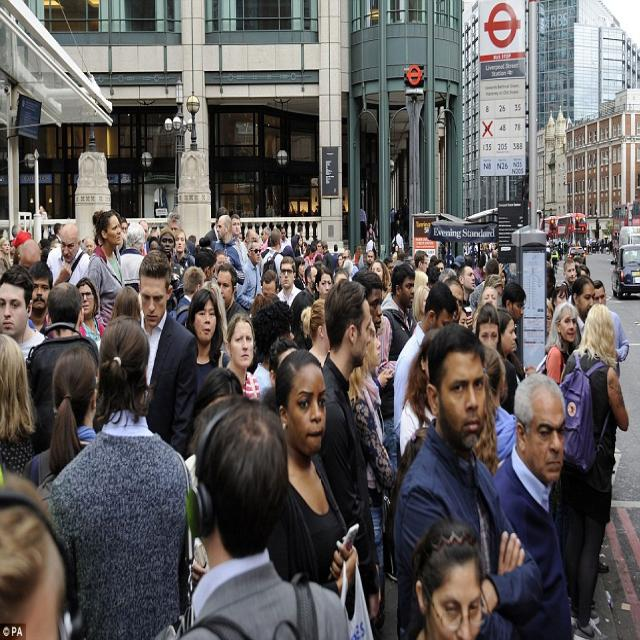body: (0, 195, 639, 638), (132, 385, 373, 639), (42, 310, 199, 639), (390, 318, 547, 639), (267, 345, 376, 640), (552, 298, 632, 639), (316, 276, 384, 628), (490, 370, 575, 640), (129, 247, 200, 456), (399, 514, 514, 640), (21, 342, 98, 514), (184, 286, 232, 394), (87, 207, 127, 326), (224, 310, 262, 400), (544, 299, 580, 386), (45, 220, 91, 288), (208, 214, 246, 286), (275, 254, 303, 341), (235, 238, 263, 310)
